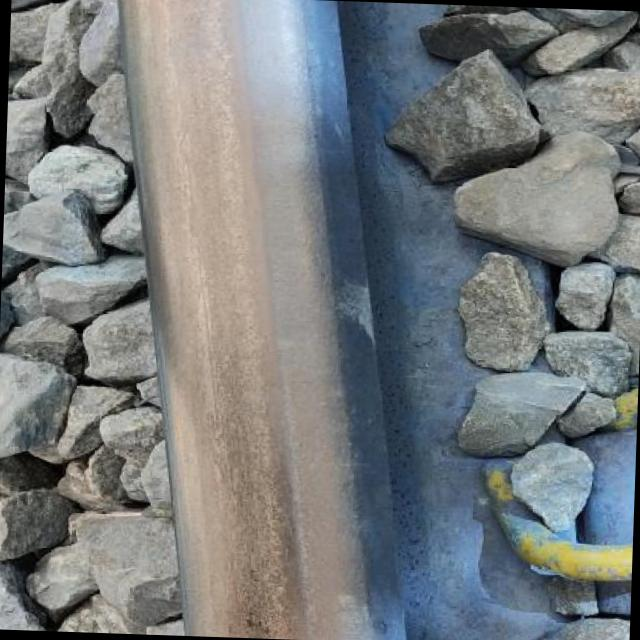defective: (71, 0, 455, 640)
